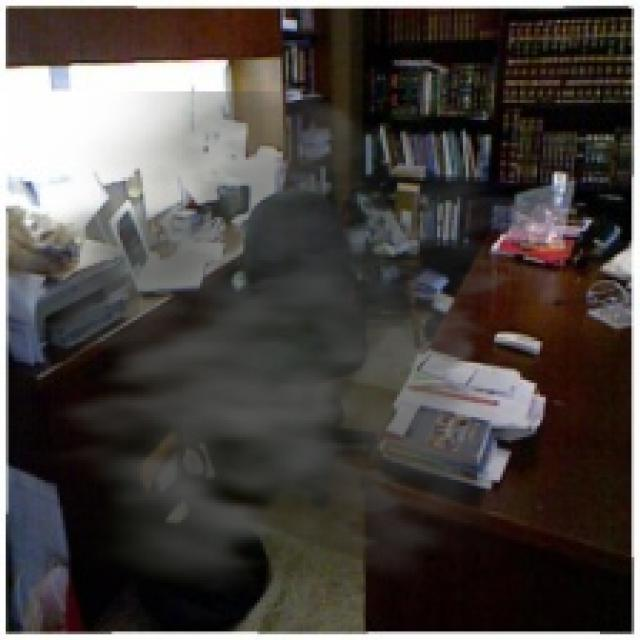smoke: (12, 91, 577, 626)
